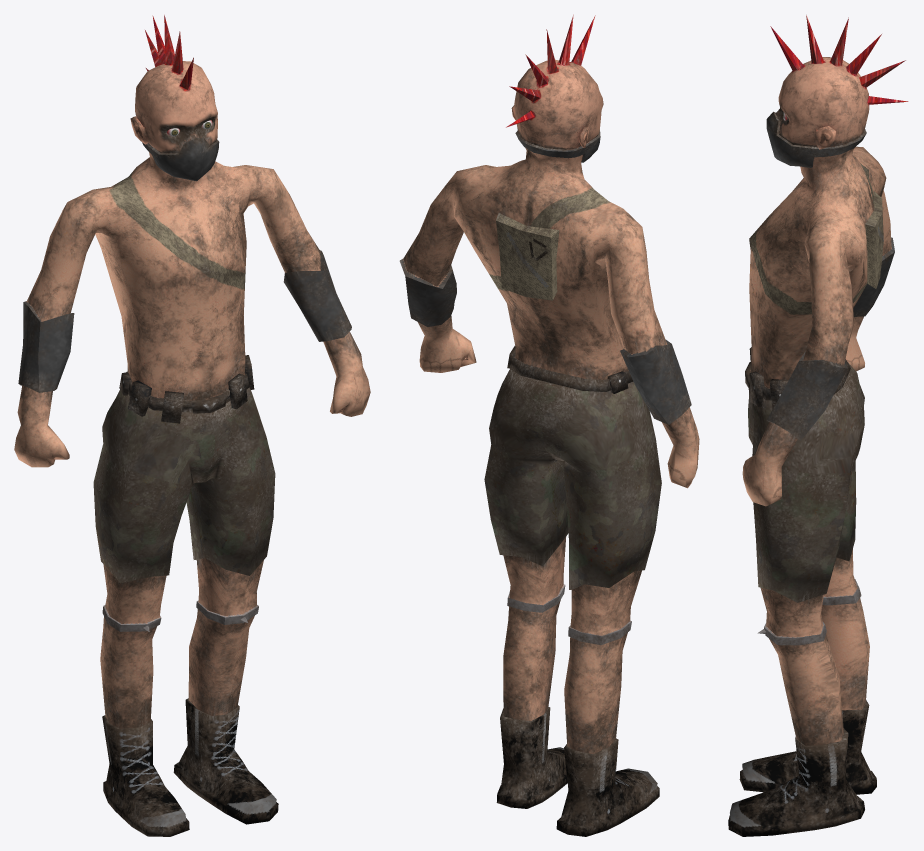
The model's file is Anim_disparar_pistola_npc2.0014.obj.
The picture shows the model from 3 angles, left to right: view 1: azimuth 30°, elevation 25°; view 2: azimuth 150°, elevation 25°; view 3: azimuth 270°, elevation 25°; orthographic projection.
Parts seen in each view (by area): view 1: polySurface1; view 2: polySurface1; view 3: polySurface1.
Boxes of the visible parts, bbox=[...] form: polySurface1: bbox=[14, 15, 370, 836]; polySurface1: bbox=[399, 14, 699, 836]; polySurface1: bbox=[728, 15, 908, 836].
Size of the model in its own units: 4.29 by 10.19 by 2.12.
2 materials, 2 textured.
